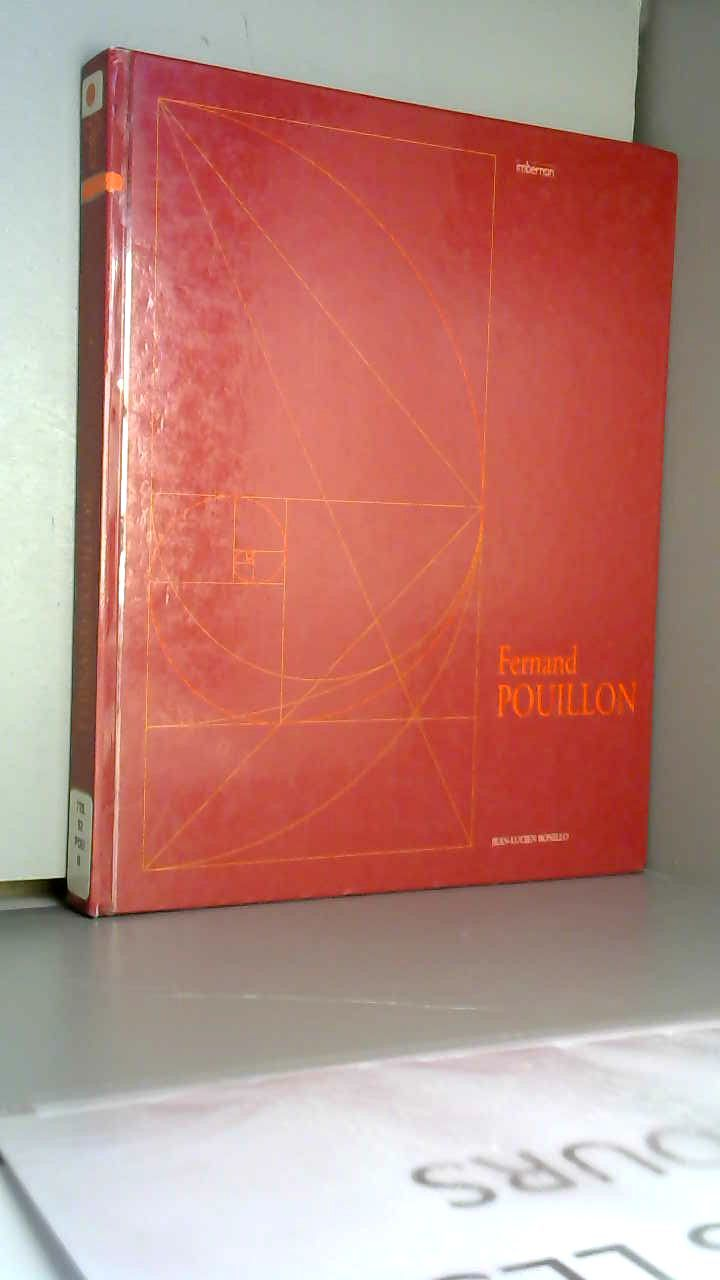book: (40, 20, 719, 935)
